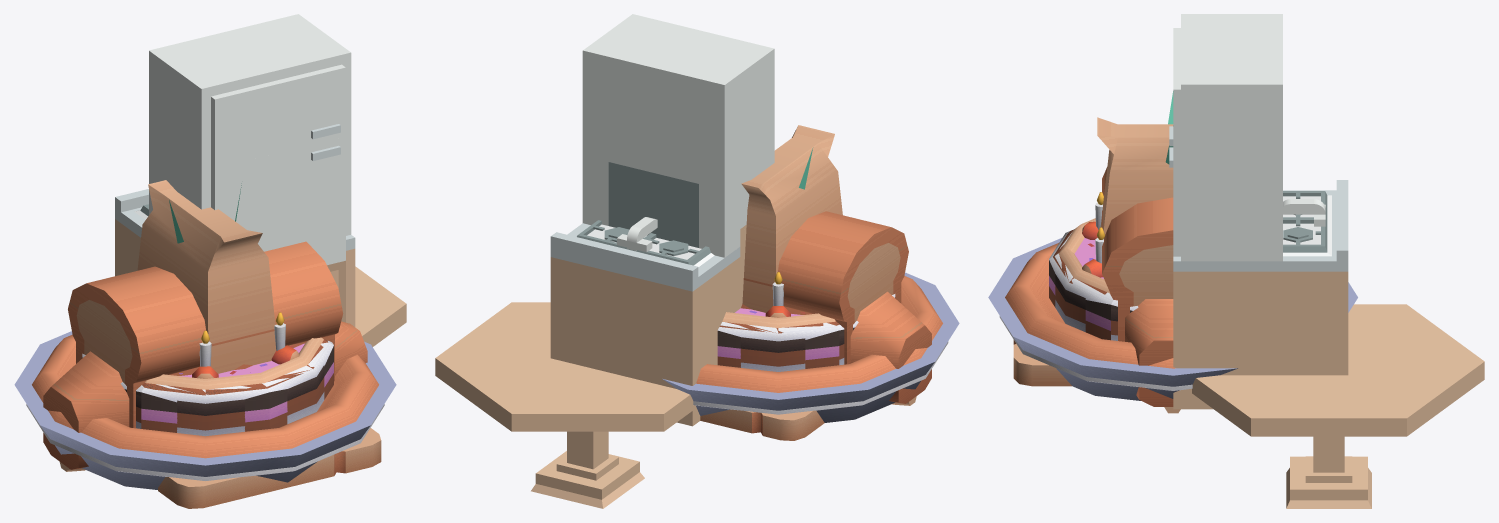
The model's file is bakery-props.glb.
3 renders of one model, left to right at view 1: azimuth 30°, elevation 25°; view 2: azimuth 150°, elevation 25°; view 3: azimuth 270°, elevation 25°, orthographic. The views are drawn at different scales.
Parts seen in each view (by area): view 1: pie, loaf, Mesh kitchenFridge, bag, slice (×4), doorFridge, doorFreezer, loaf-baguette, cutting-board, tableRound(Clone), Mesh kitchenStove, plate (+3 smaller); view 2: Mesh kitchenFridge, tableRound(Clone), Mesh kitchenStove, pie, loaf, bag, slice (×2), Mesh kitchenSink, loaf-baguette, cutting-board, plate; view 3: tableRound(Clone), Mesh kitchenFridge, Mesh kitchenStove, Mesh kitchenSink, pie, loaf, bag, slice (×3), loaf-baguette, cutting-board, doorFreezer, Mesh kitchenCabinetUpper (+2 smaller).
Part boxes in pixels (bbox=[...]): pie: bbox=[14, 331, 396, 489]; loaf: bbox=[68, 241, 343, 428]; Mesh kitchenFridge: bbox=[149, 14, 351, 235]; bag: bbox=[137, 180, 276, 373]; slice (×4): bbox=[141, 312, 333, 436]; doorFridge: bbox=[211, 136, 345, 265]; doorFreezer: bbox=[211, 64, 345, 168]; loaf-baguette: bbox=[43, 321, 367, 469]; cutting-board: bbox=[158, 428, 381, 508]; tableRound(Clone): bbox=[355, 266, 406, 346]; Mesh kitchenStove: bbox=[115, 197, 355, 276]; plate: bbox=[26, 404, 384, 480]; Mesh kitchenFridge: bbox=[582, 14, 774, 257]; tableRound(Clone): bbox=[435, 302, 696, 508]; Mesh kitchenStove: bbox=[550, 220, 740, 426]; pie: bbox=[662, 272, 959, 422]; loaf: bbox=[743, 211, 908, 364]; bag: bbox=[741, 125, 842, 312]; slice (×2): bbox=[717, 272, 839, 371]; Mesh kitchenSink: bbox=[551, 217, 740, 425]; loaf-baguette: bbox=[850, 291, 931, 403]; cutting-board: bbox=[700, 409, 824, 440]; plate: bbox=[693, 341, 948, 414]; tableRound(Clone): bbox=[1192, 304, 1484, 508]; Mesh kitchenFridge: bbox=[1181, 14, 1282, 261]; Mesh kitchenStove: bbox=[1173, 191, 1348, 409]; Mesh kitchenSink: bbox=[1173, 180, 1348, 409]; pie: bbox=[988, 238, 1357, 400]; loaf: bbox=[1102, 167, 1173, 341]; bag: bbox=[1097, 117, 1173, 234]; slice (×3): bbox=[1049, 192, 1114, 340]; loaf-baguette: bbox=[1125, 299, 1173, 406]; cutting-board: bbox=[1013, 340, 1071, 386]; doorFreezer: bbox=[1169, 28, 1180, 156]; Mesh kitchenCabinetUpper: bbox=[1173, 271, 1188, 409].
Size of the model in its own units: 1.17 by 1.19 by 1.28.
Materials: 13 (1 with a texture image).
